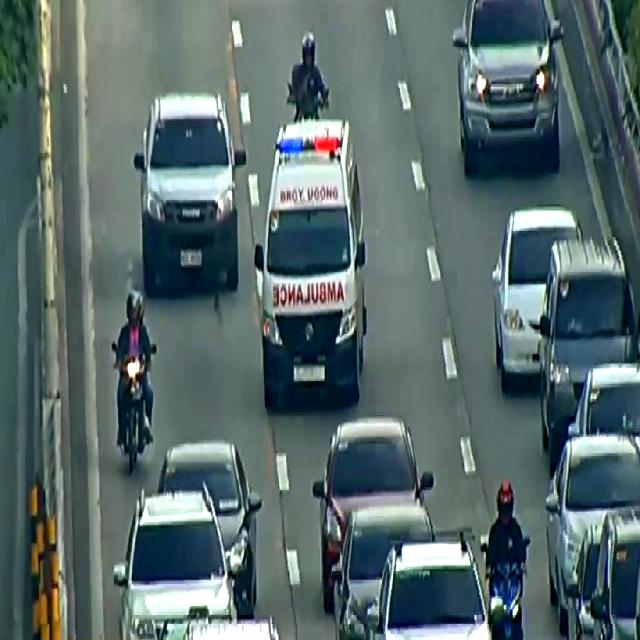emergency: (252, 118, 370, 416)
